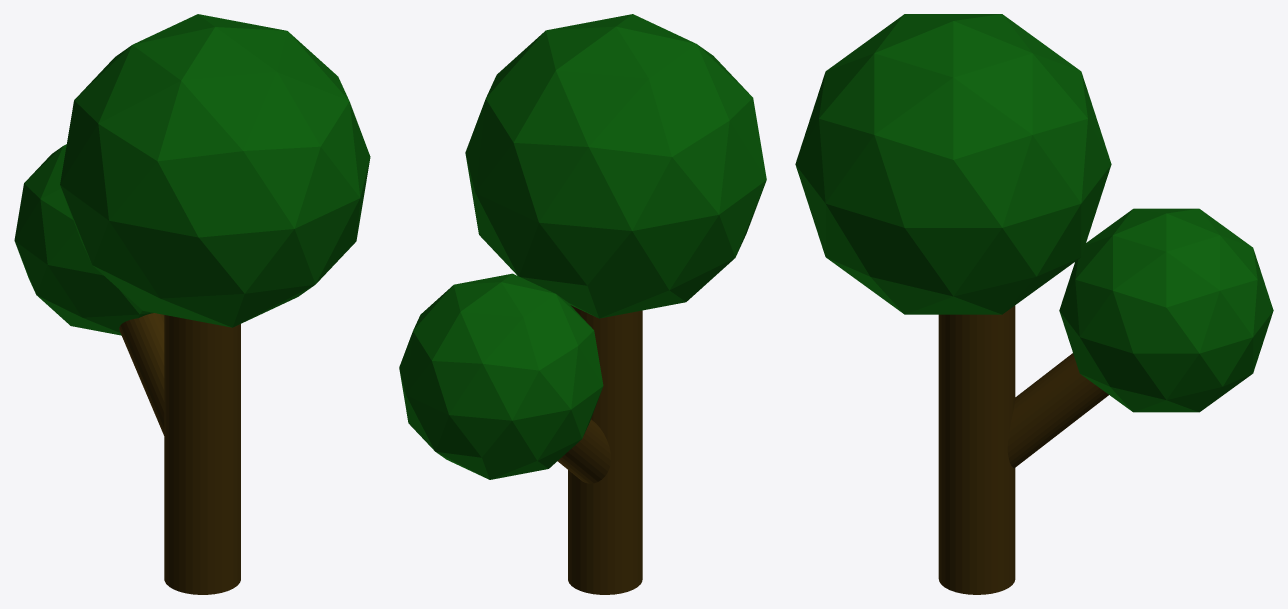
The model's file is tree.glb.
3 renders of one model, left to right at view 1: azimuth 30°, elevation 25°; view 2: azimuth 150°, elevation 25°; view 3: azimuth 270°, elevation 25°, orthographic. The views are drawn at different scales.
Visible parts, largest first — view 1: Icosphere, Cylinder, Icosphere.001, Cylinder.001; view 2: Icosphere, Icosphere.001, Cylinder, Cylinder.001; view 3: Icosphere, Icosphere.001, Cylinder, Cylinder.001.
Part boxes in pixels (box(x1,y1,x2,y2)): Icosphere: box(60, 14, 370, 327); Cylinder: box(164, 315, 240, 594); Icosphere.001: box(14, 144, 152, 335); Cylinder.001: box(119, 313, 164, 435); Icosphere: box(465, 14, 766, 318); Icosphere.001: box(399, 273, 603, 479); Cylinder: box(568, 305, 642, 594); Cylinder.001: box(557, 419, 610, 483); Icosphere: box(795, 14, 1111, 314); Icosphere.001: box(1059, 208, 1273, 412); Cylinder: box(938, 305, 1015, 594); Cylinder.001: box(1007, 353, 1108, 467).
Bounding box in the file's own units: 1.9 × 3.89 × 3.02.
